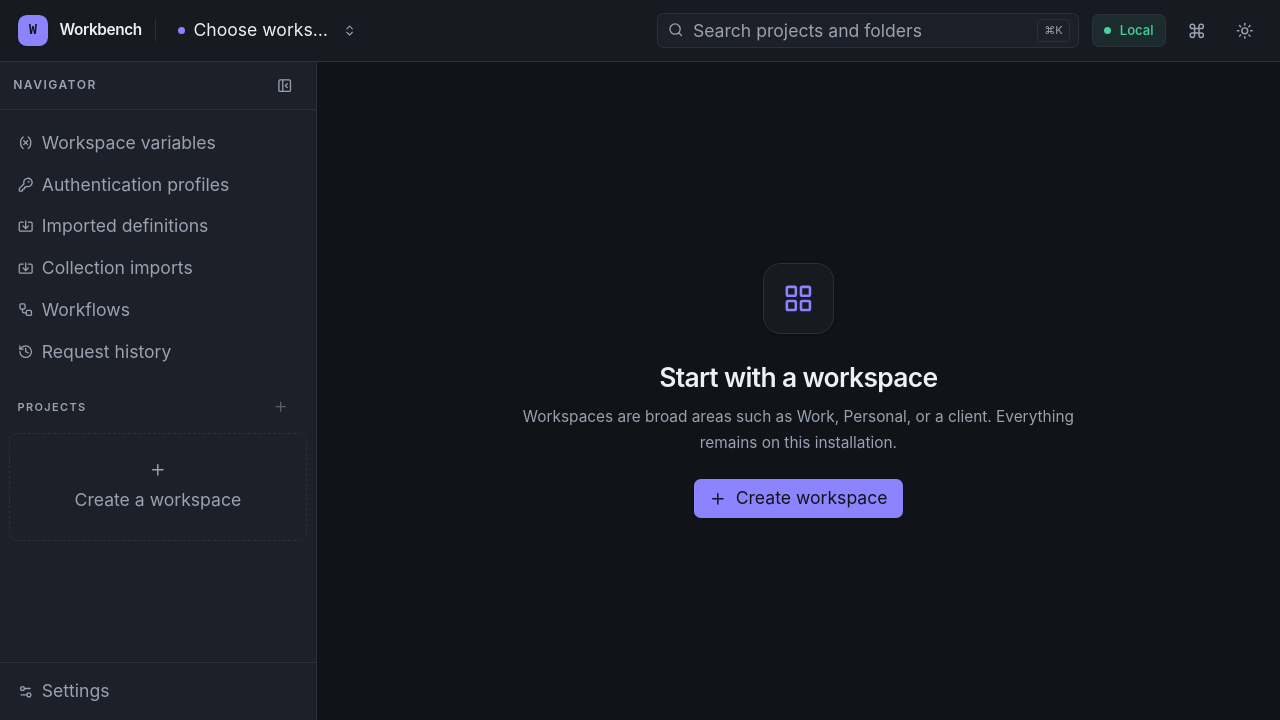
Test case: WorkbenchShell › collapses and restores the project sidebar
This screenshot has width=1280, height=720.
Click the button named "Collapse sidebar".
click(285, 85)  # box x1=267 y1=68 x2=303 y2=103
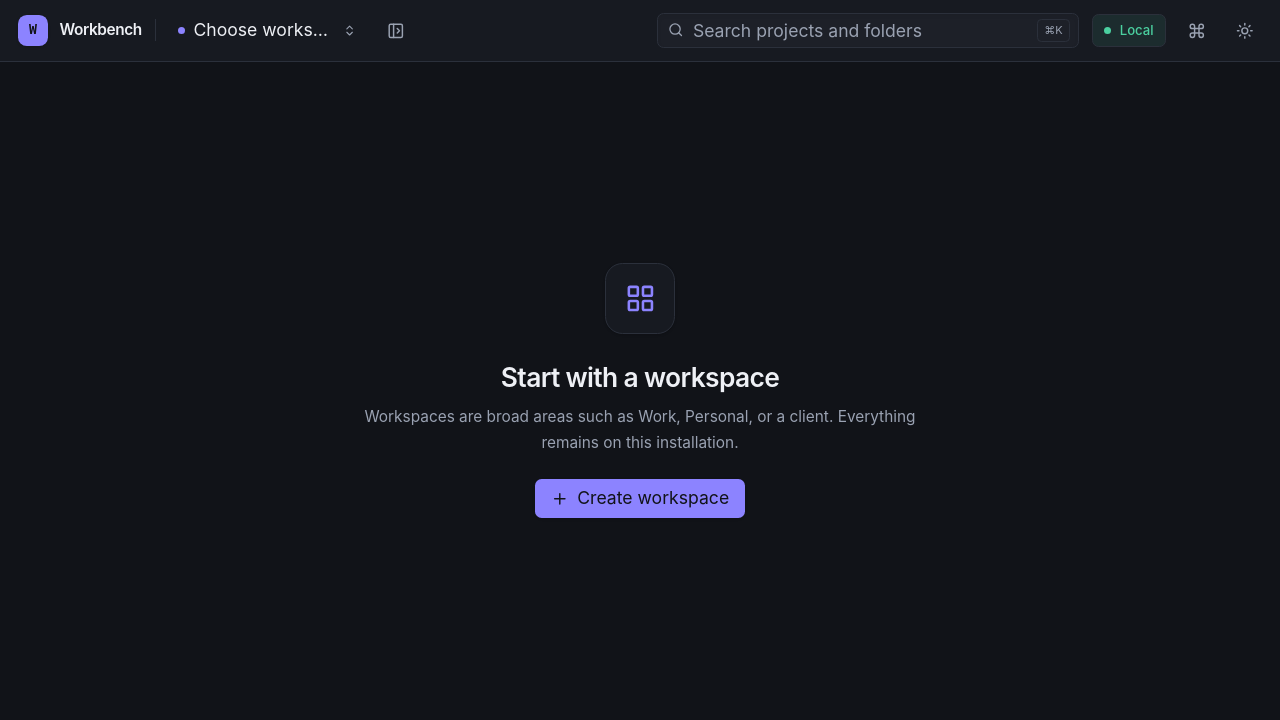
Check: the button named "Open sidebar" is shown
Click the button named "Open sidebar".
click(396, 30)  # box x1=378 y1=13 x2=413 y2=48
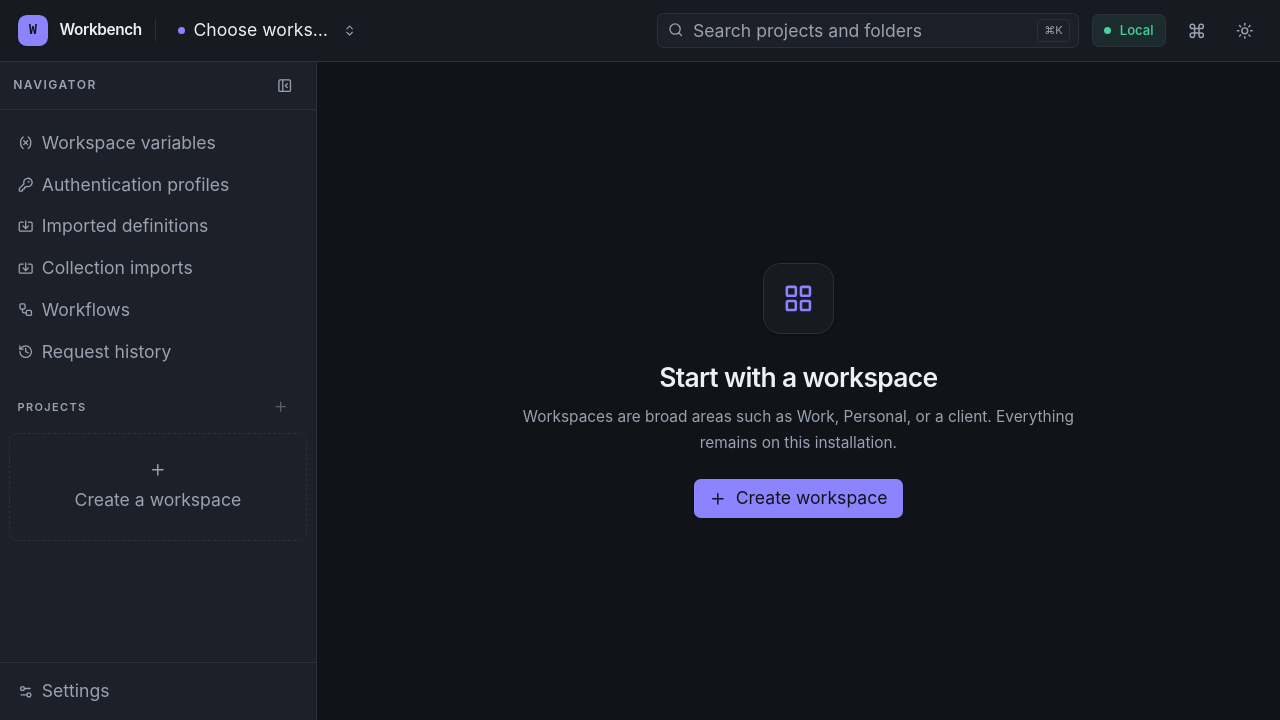
Check: the button named "Collapse sidebar" is shown, box x1=267 y1=68 x2=303 y2=103
